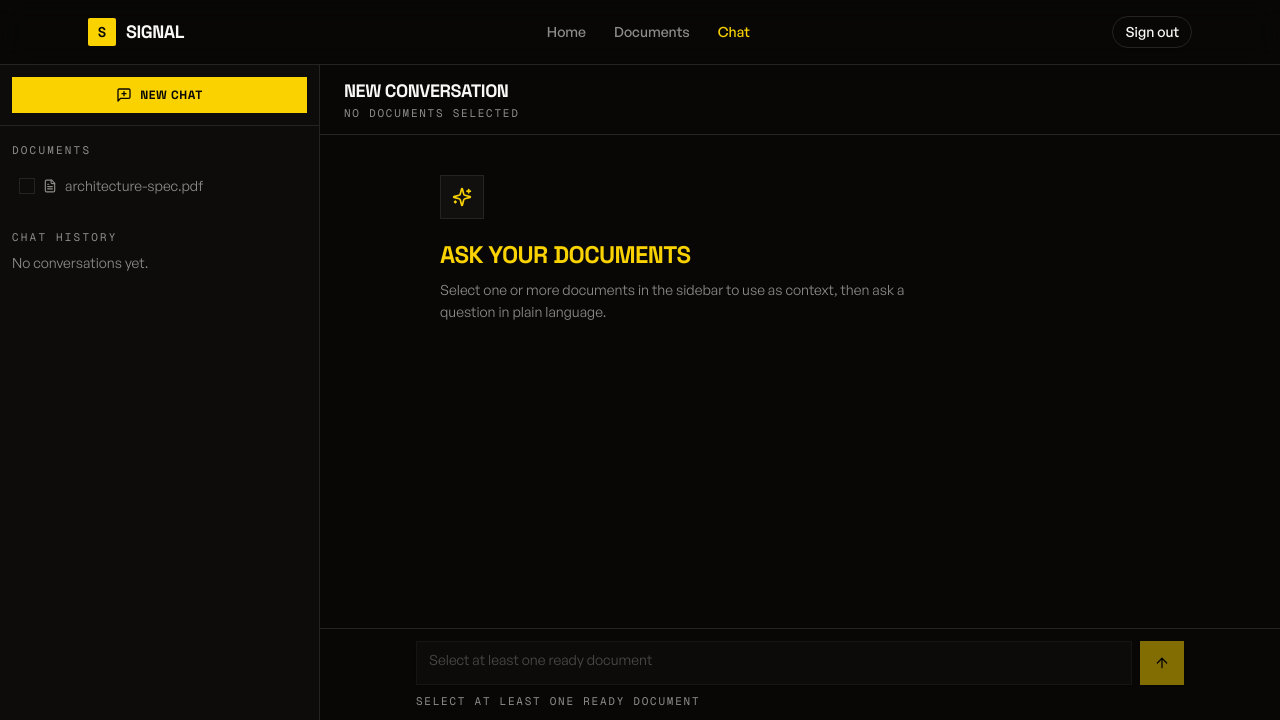
Test: chat workspace › answers a question with a numbered citation and reveals the source passage
Click the button with test id "chat.document_toggle.1": (160, 186) [8, 166, 311, 204]
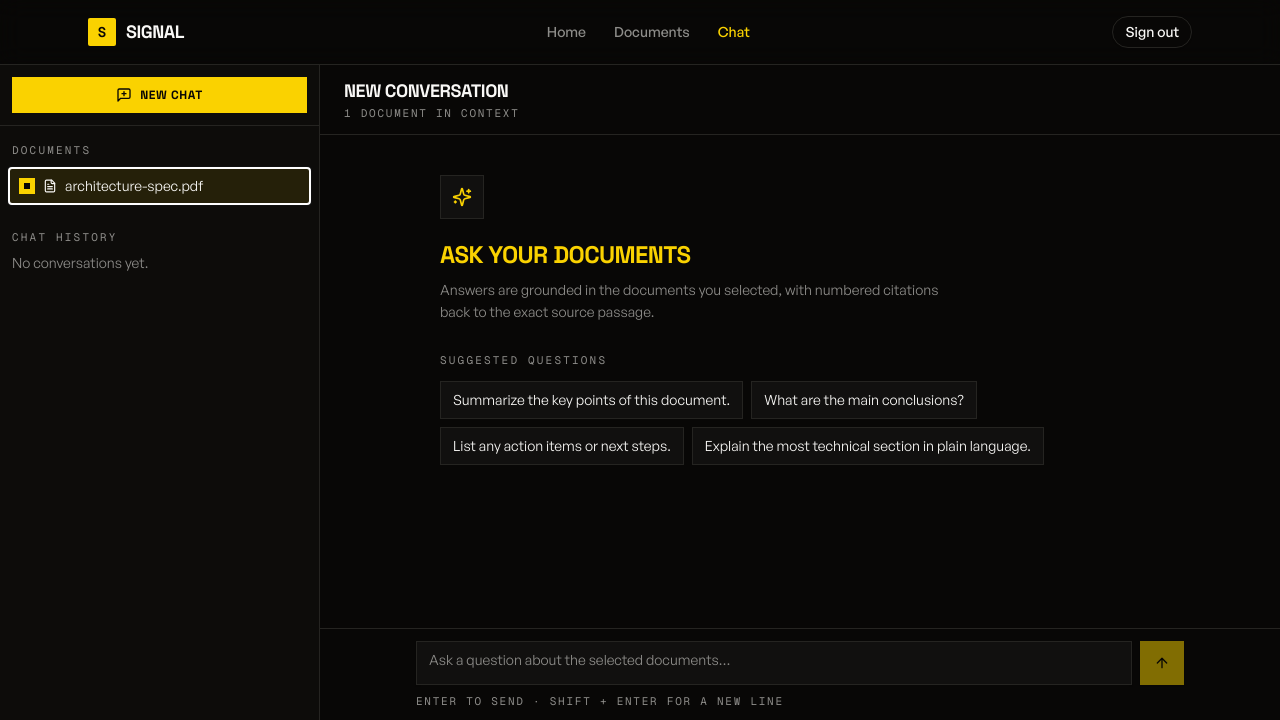
In the text box with test id "chat.input": (774, 662) [416, 640, 1132, 684], type "How does chunking work?"
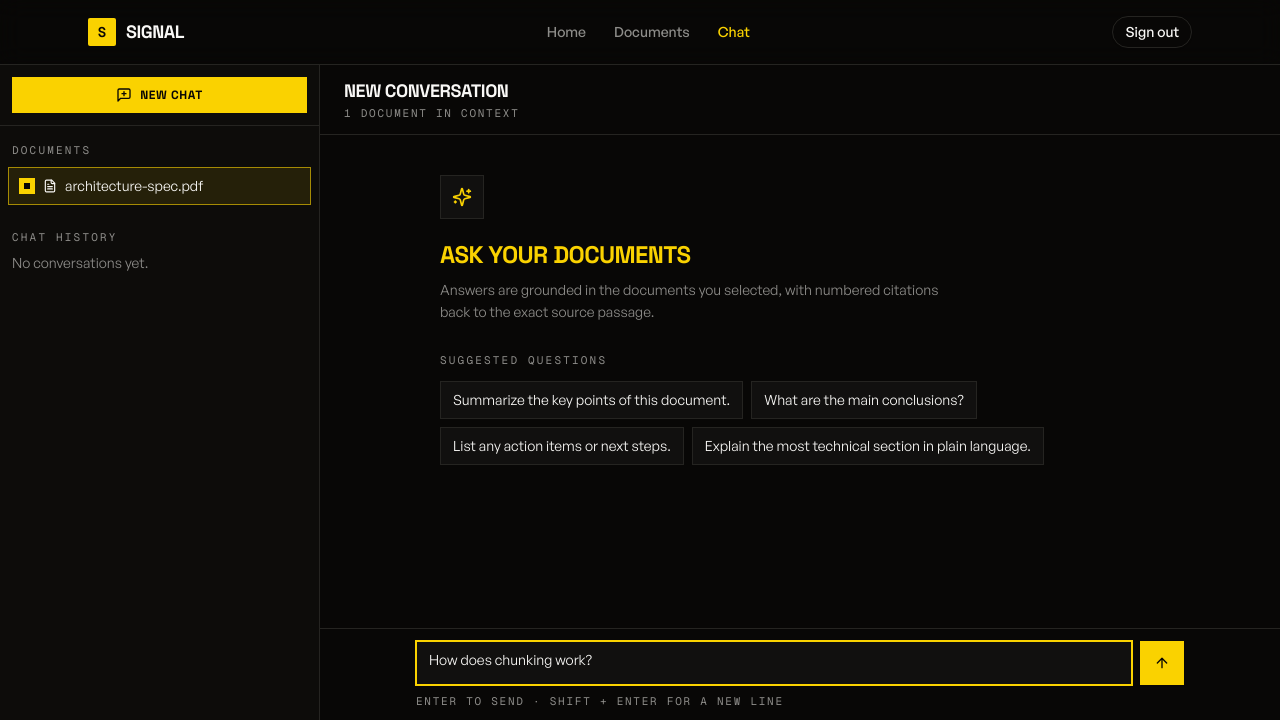
Click the button with test id "chat.send_button": (1162, 662) [1140, 640, 1184, 684]
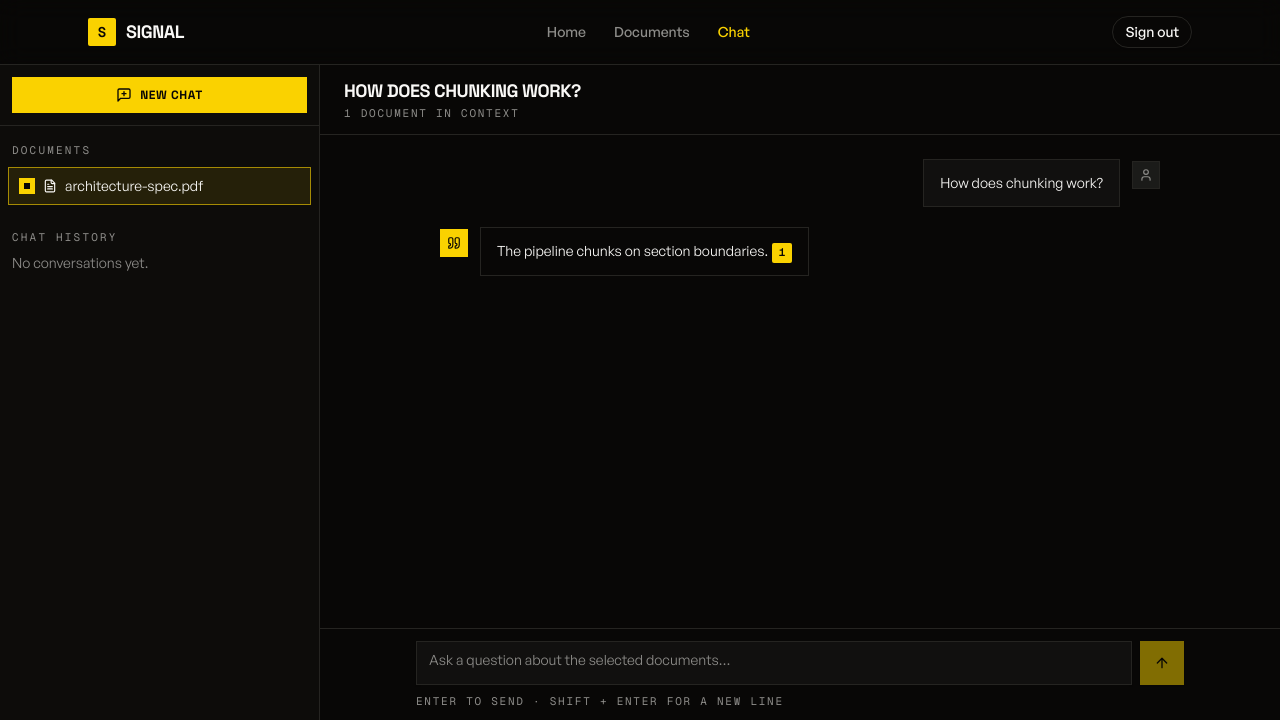
Check: the button with test id "chat.citation_chip.1" reads "1"
Click the button with test id "chat.citation_chip.1": (782, 253) [772, 243, 792, 263]
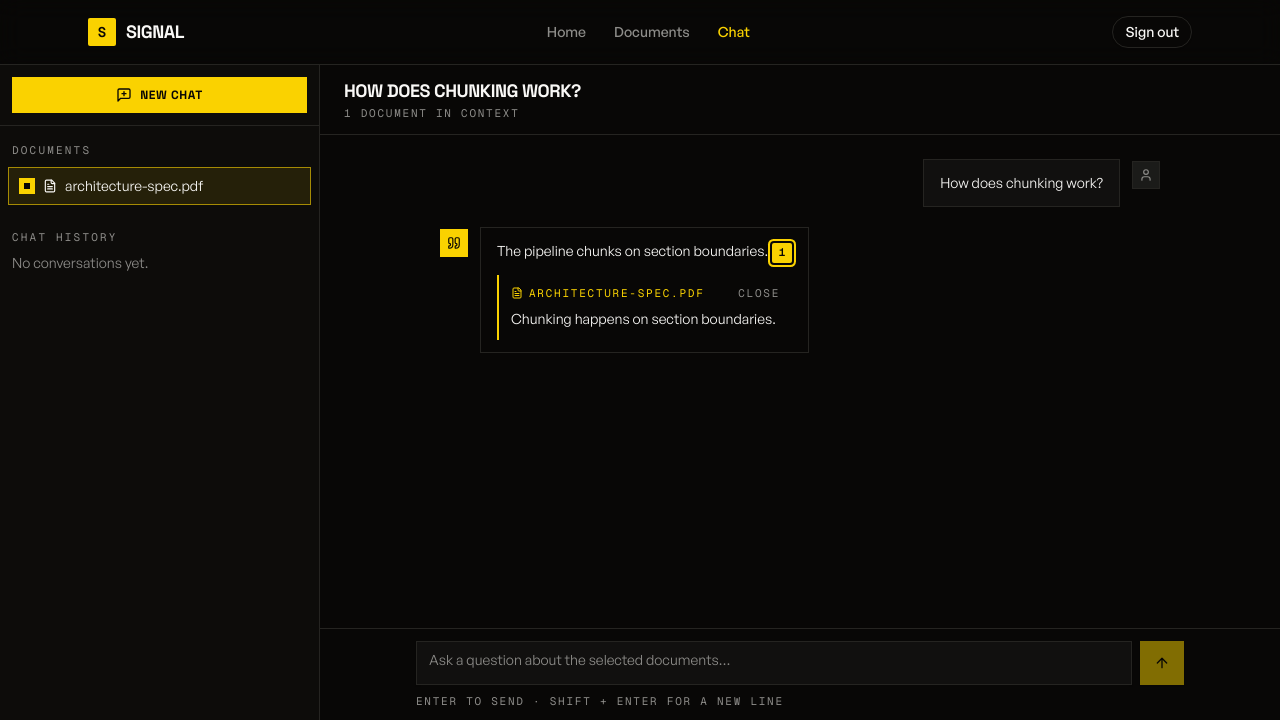
Check: the text "Chunking happens on section boundaries." is shown, box [511, 308, 780, 330]
Check: the 2nd text "architecture-spec.pdf" is shown, box [529, 285, 705, 302]
